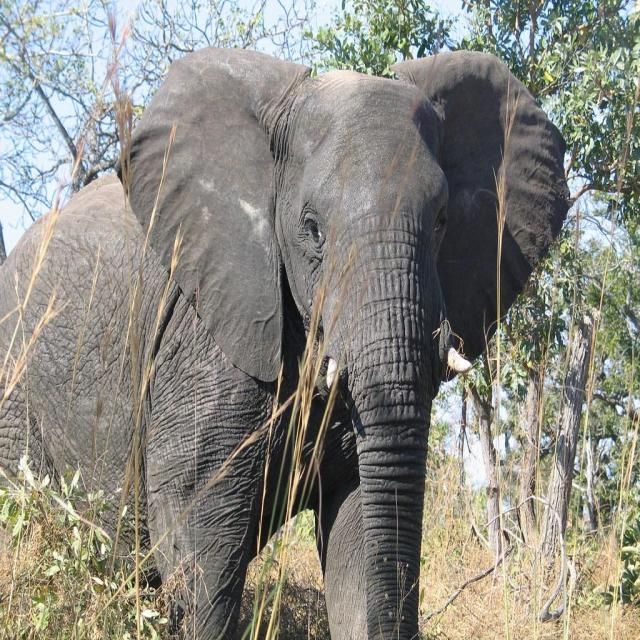Elephant: (2, 50, 570, 639)
